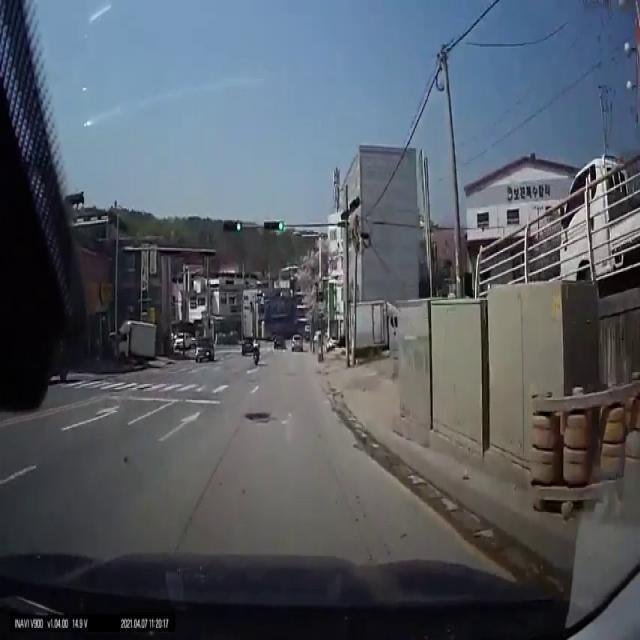Buraco: (243, 411, 270, 421)
